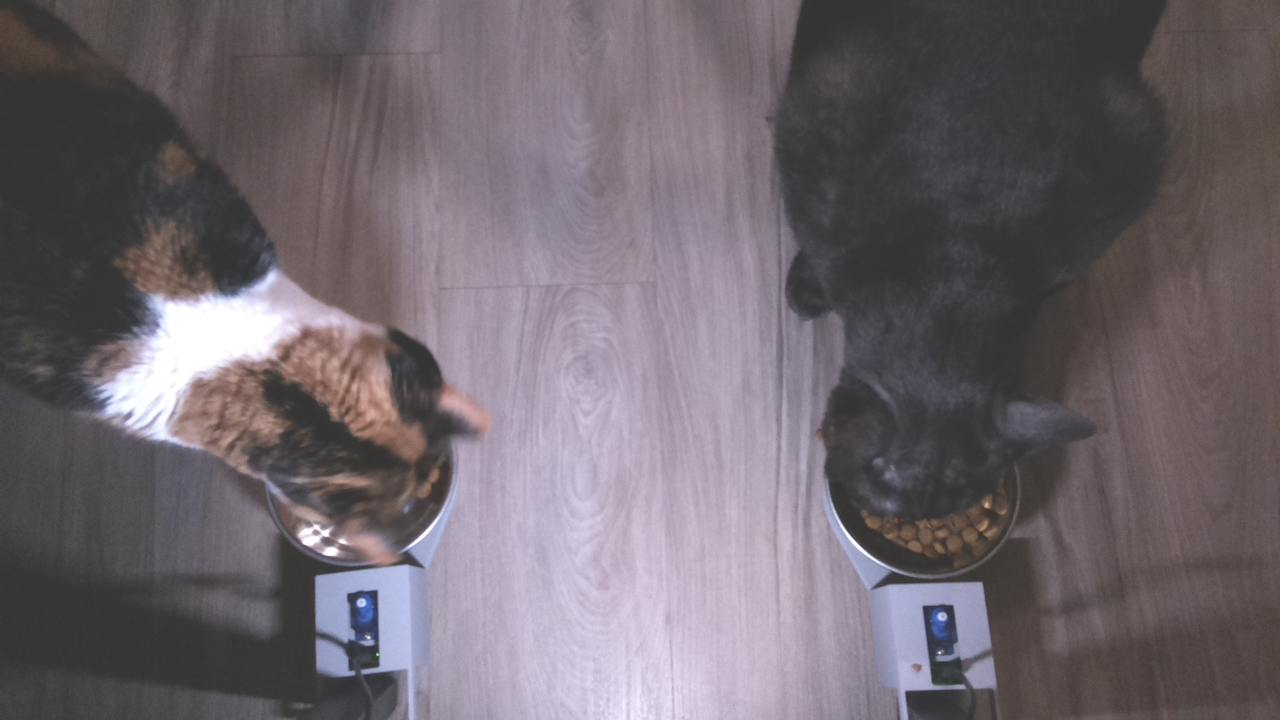bella_eating: (218, 265, 504, 577)
saki_eating: (804, 269, 1132, 592)
